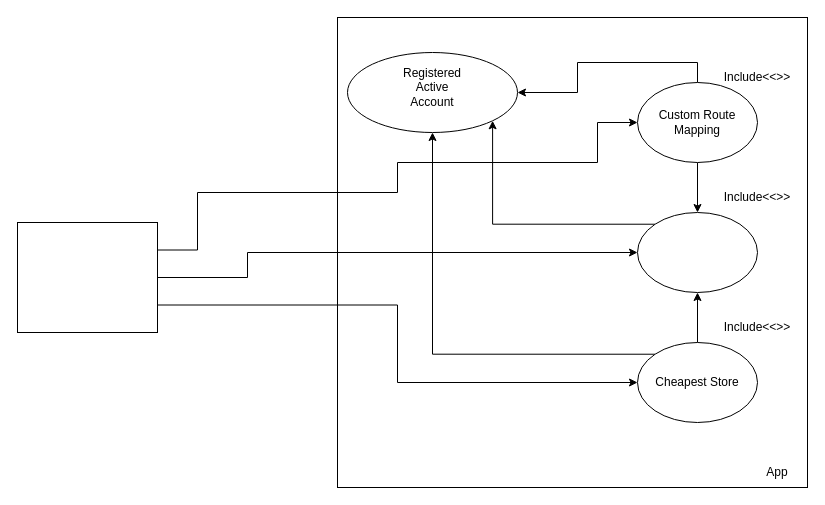
Some shapes in this 825 by 505 pixel diagram are drawn without their labels. The shapes that lost their labels are listed below. From the top down, each one's centre as x and y in pixels, then its label:
(x=697, y=252): Store Locator
(x=87, y=277): Primary Actor: Shopper
